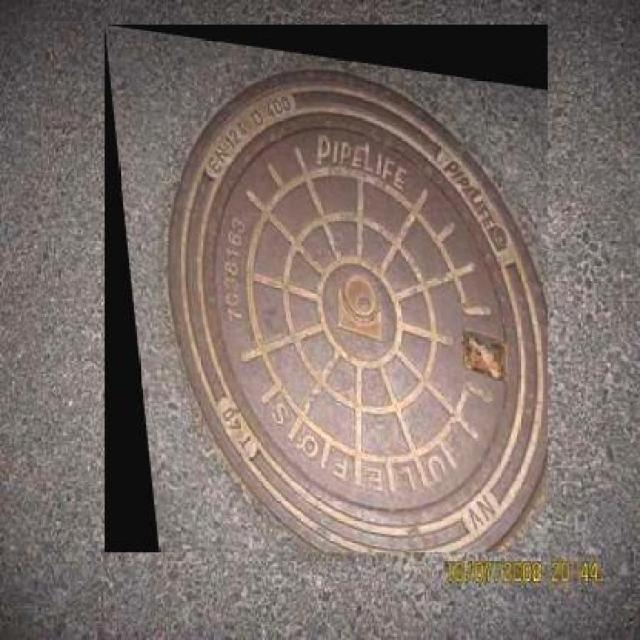Manhole: (105, 25, 548, 552)
